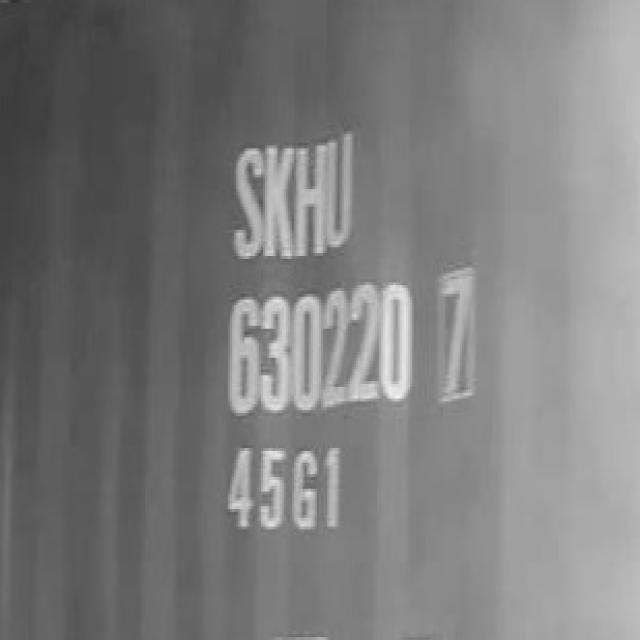dv: (433, 263, 478, 403)
owner: (220, 122, 362, 265)
serial: (216, 280, 416, 413)
size: (218, 431, 352, 545)
